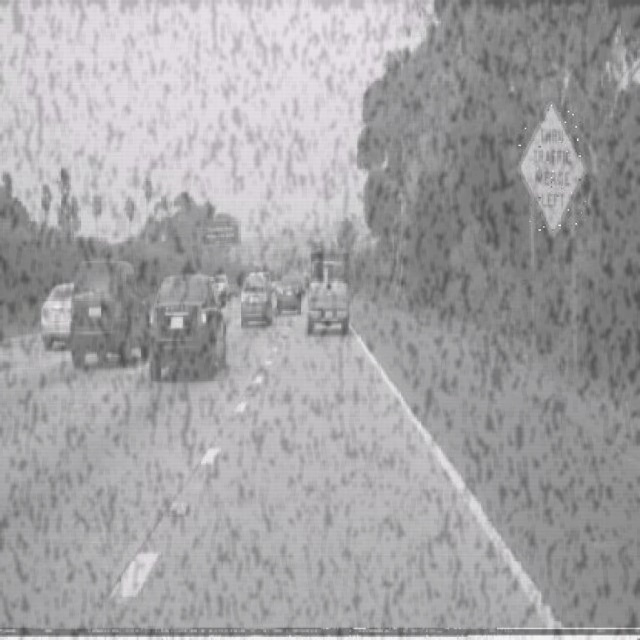thruMergeLeft: (517, 98, 587, 236)
